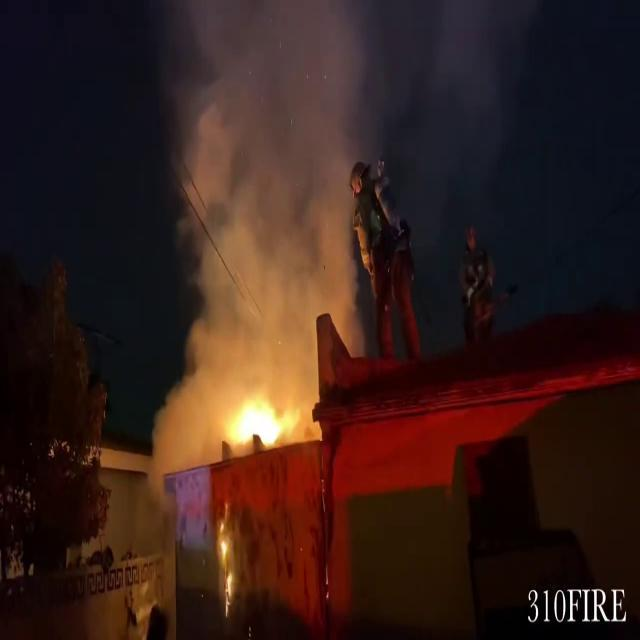Fire: (218, 377, 306, 463), (216, 505, 237, 615)
Smoke: (152, 0, 380, 378)
